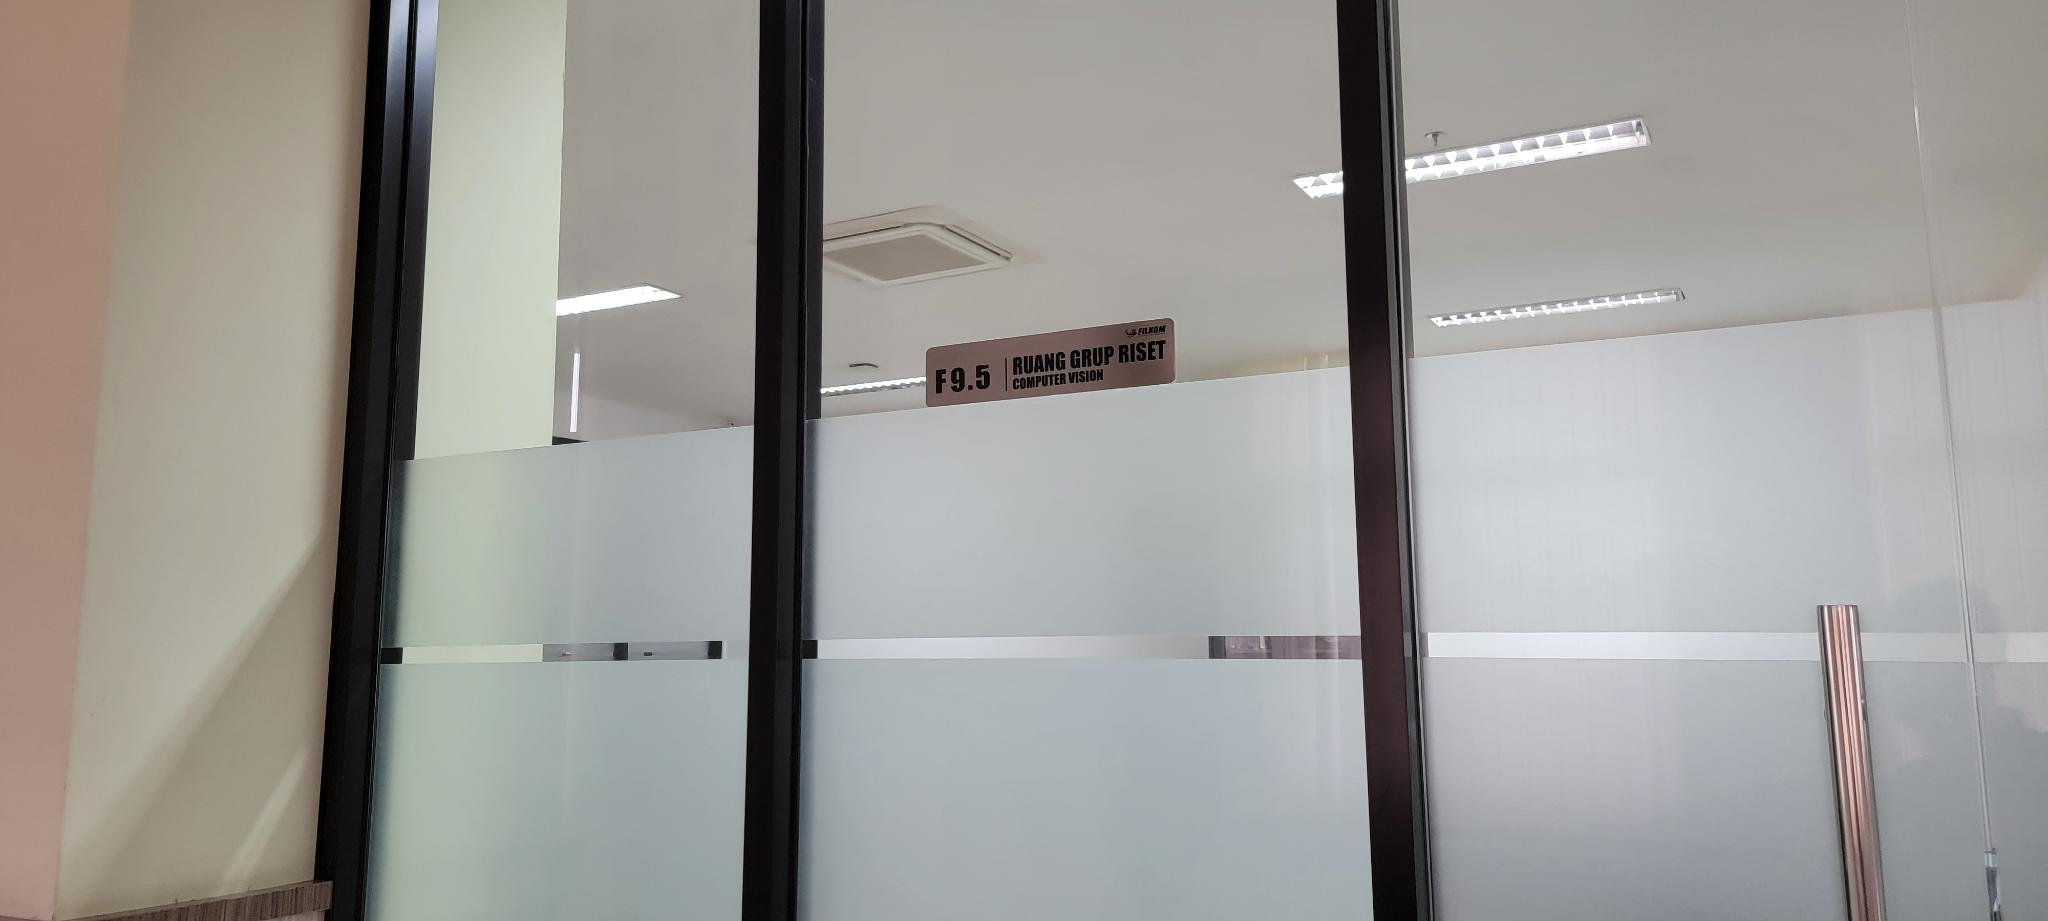plate: (926, 315, 1176, 410)
